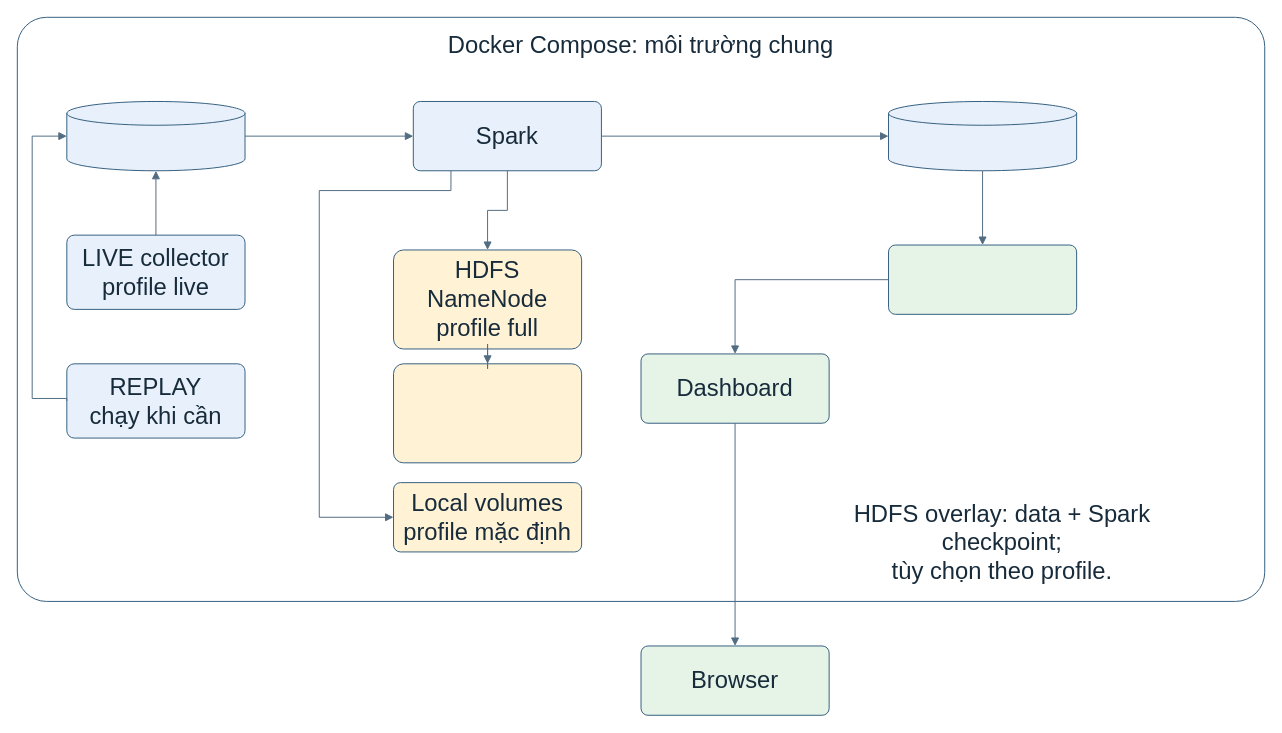
Image size: 1282x733. Some labels were removed from this diagram. Each missing label, with the centre of its shape:
Cassandra: the point at 982,135
FastAPI: the point at 982,279
HDFS DataNode profile full: the point at 487,413
Kafka: the point at 155,135
